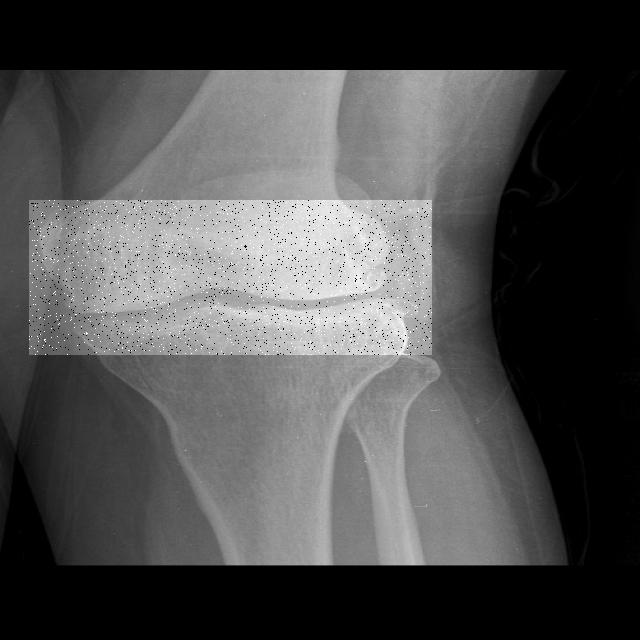osteo: (29, 200, 432, 355)
